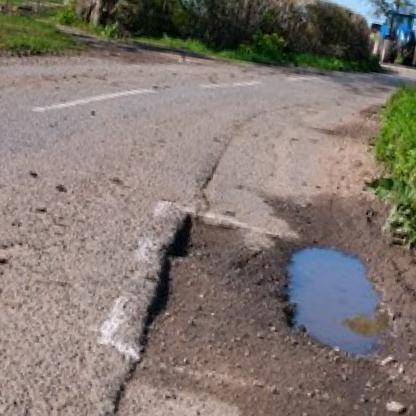pothole: (262, 218, 416, 376)
